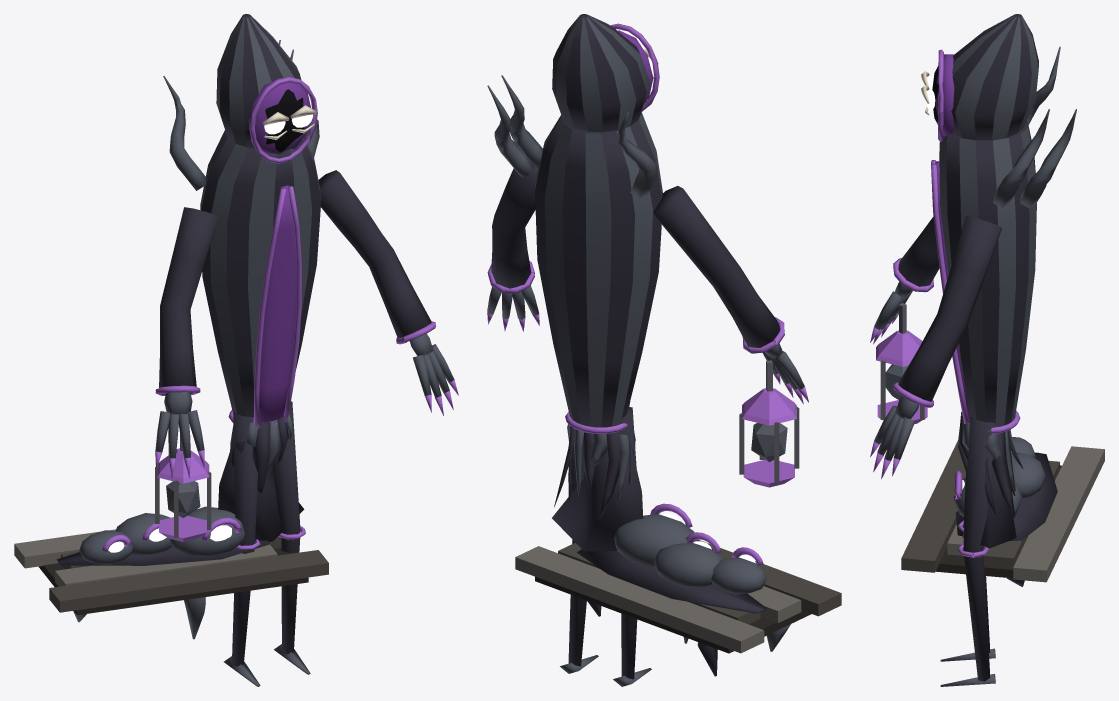
File: lurker-the-last-in-line.glb
The picture shows the model from 3 angles, left to right: view 1: azimuth 30°, elevation 25°; view 2: azimuth 150°, elevation 25°; view 3: azimuth 270°, elevation 25°; orthographic projection. The views are drawn at different scales.
Visible parts, largest first — view 1: lurker_the_last_in_line, turn_head, sway_arm_r, sway_arm_l, sway_lamp, sway_hem_front, sway_wisps; view 2: lurker_the_last_in_line, turn_head, sway_arm_r, sway_arm_l, sway_lamp, sway_wisps, sway_hem_back, sway_under, sway_hem_r; view 3: lurker_the_last_in_line, turn_head, sway_arm_l, sway_wisps, sway_arm_r, sway_lamp, sway_hem_back, sway_hem_l, sway_hem_front.
Boxes of the visible parts, left/top/right/bottom form: lurker_the_last_in_line: left=14, top=130, right=328, bottom=686; turn_head: left=216, top=14, right=317, bottom=163; sway_arm_r: left=155, top=207, right=218, bottom=478; sway_arm_l: left=318, top=170, right=458, bottom=415; sway_lamp: left=155, top=434, right=211, bottom=541; sway_hem_front: left=246, top=413, right=293, bottom=493; sway_wisps: left=163, top=40, right=319, bottom=190; lurker_the_last_in_line: left=515, top=112, right=841, bottom=686; turn_head: left=552, top=14, right=659, bottom=132; sway_arm_r: left=653, top=186, right=808, bottom=403; sway_arm_l: left=487, top=166, right=539, bottom=331; sway_lamp: left=739, top=360, right=799, bottom=487; sway_wisps: left=487, top=75, right=655, bottom=198; sway_hem_back: left=554, top=426, right=621, bottom=518; sway_under: left=587, top=600, right=790, bottom=676; sway_hem_r: left=617, top=431, right=635, bottom=502; lurker_the_last_in_line: left=901, top=121, right=1104, bottom=686; turn_head: left=921, top=14, right=1038, bottom=141; sway_arm_l: left=870, top=216, right=1001, bottom=479; sway_wisps: left=993, top=46, right=1076, bottom=208; sway_arm_r: left=870, top=216, right=939, bottom=344; sway_lamp: left=876, top=303, right=927, bottom=424; sway_hem_back: left=991, top=430, right=1023, bottom=517; sway_hem_l: left=970, top=433, right=1001, bottom=515; sway_hem_front: left=958, top=411, right=969, bottom=474.
Bounding box in the file's own units: 0.8041 × 1.34 × 0.4327.
